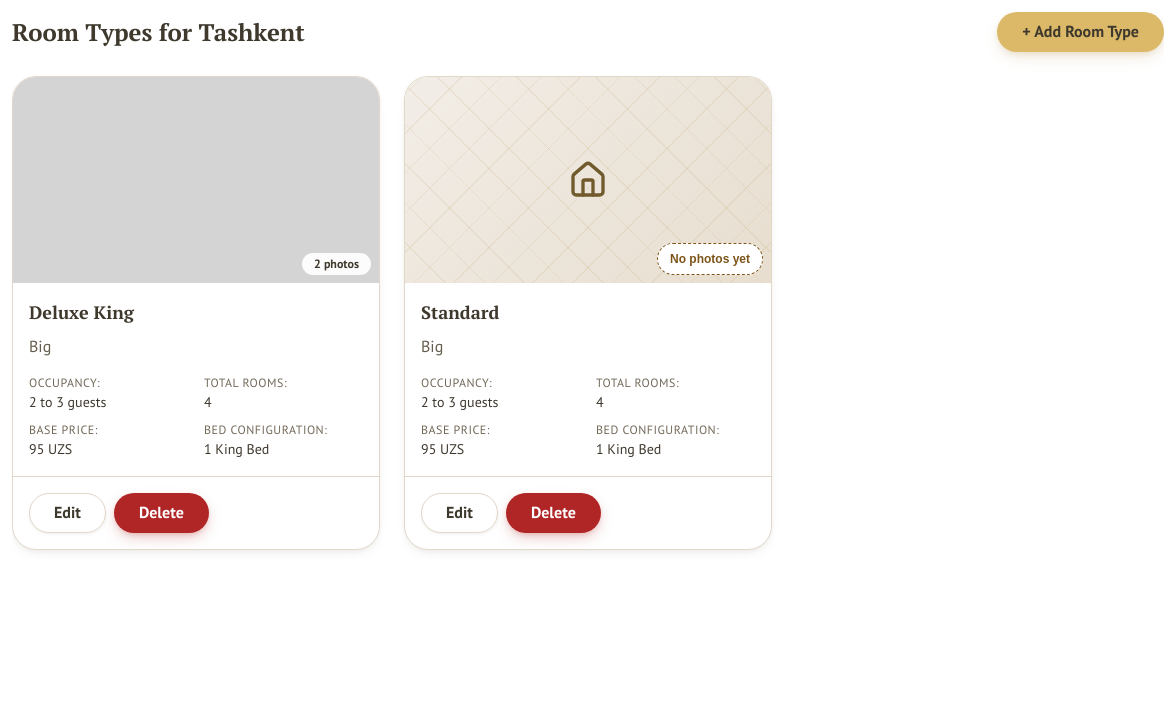
Scenario: PartnerRoomsManagement photos › does not ask for a web address: the server makes it from the name
The width and height of the screenshot is (1176, 723).
Click the button with aria-label "Add new room type" at (1081, 32), box [997,12,1164,52]
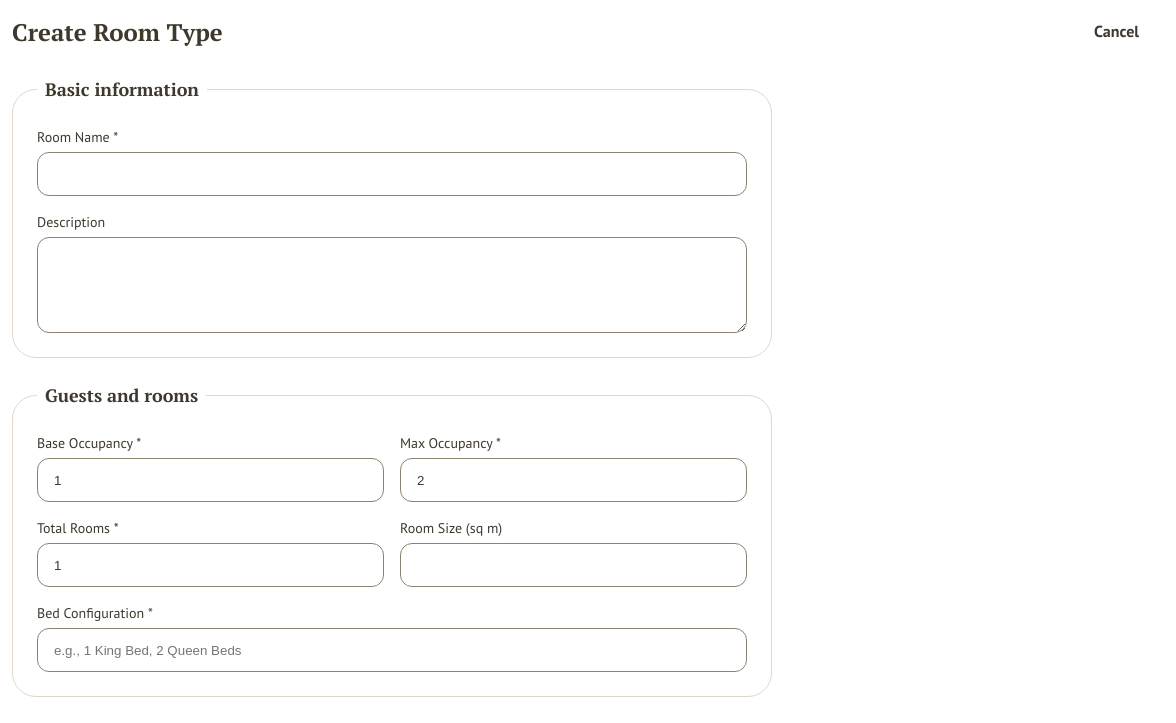
Check: the heading "Create Room Type" is shown, box [12,14,223,50]
